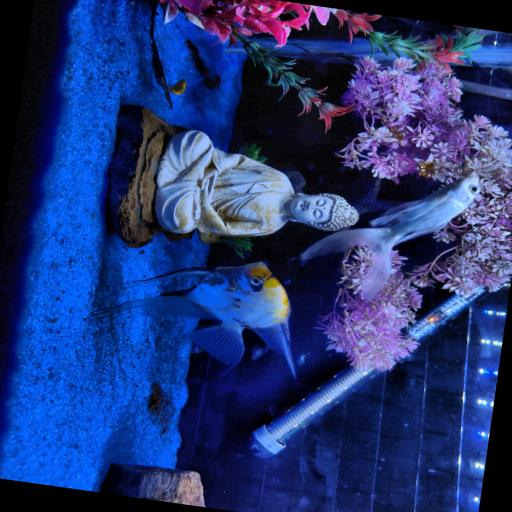Fish: (93, 261, 294, 374), (300, 174, 479, 300), (164, 79, 185, 94)
